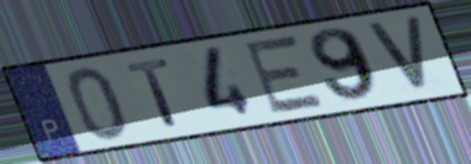0: (66, 64, 132, 144)
4: (200, 43, 261, 124)
9: (308, 25, 383, 106)
E: (241, 32, 328, 118)
T: (122, 55, 183, 130)
V: (361, 15, 432, 93)
